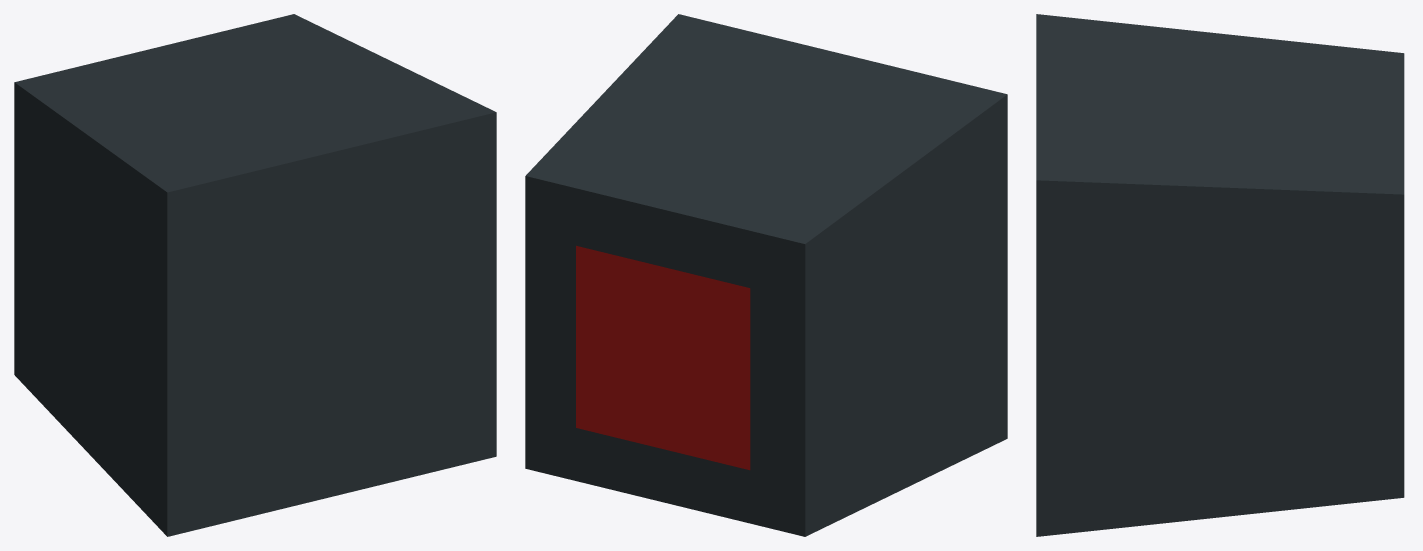
The picture shows the model from 3 angles, left to right: view 1: azimuth 30°, elevation 25°; view 2: azimuth 150°, elevation 25°; view 3: azimuth 270°, elevation 25°; orthographic projection. The views are drawn at different scales.
Visible parts, largest first — view 1: mount; view 2: mount; view 3: mount.
Part boxes in pixels (x1,y1,x2,y2): mount: (14, 14, 496, 536); mount: (525, 14, 1007, 536); mount: (1036, 14, 1404, 536).
Bounding box in the file's own units: 2.65 × 2.65 × 2.51.
